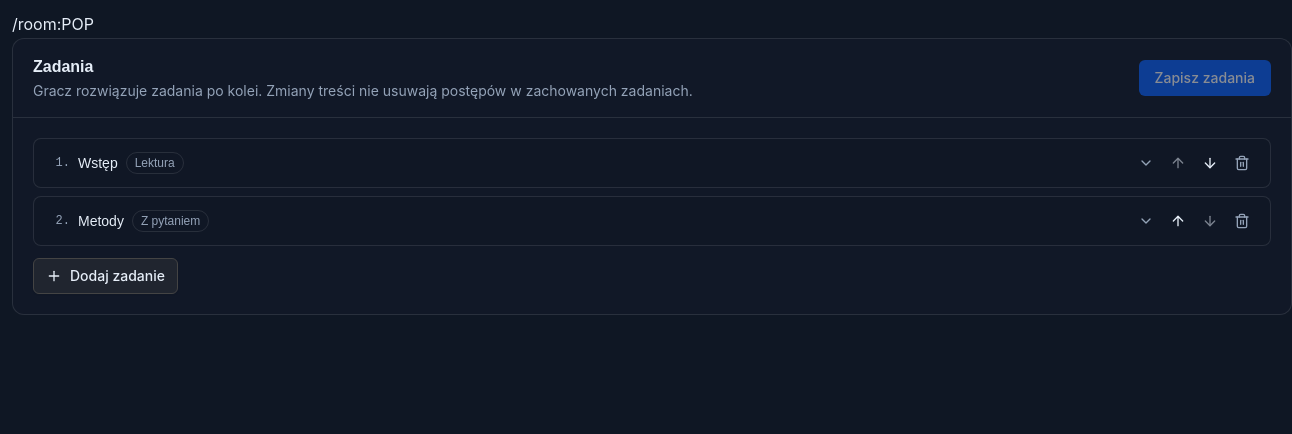
Test case: tasks editor › shows validation errors returned by the server
Expected: the button "Metody Z pytaniem" is shown, [78,206,1154,236]
Click the button named "Przesuń zadanie 2 w górę" at (1178, 221), box [1162,205,1194,237]
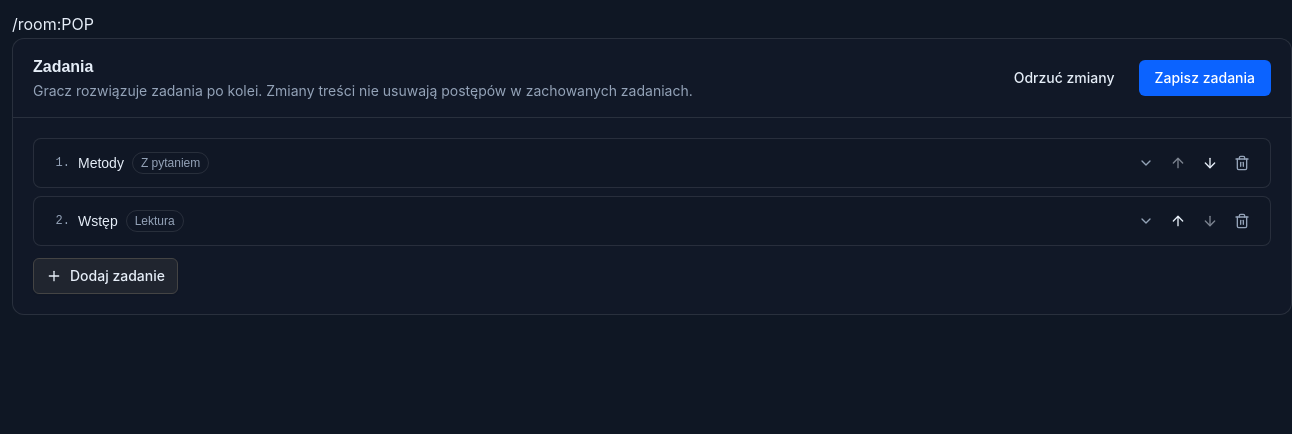
Click the button "Zapisz zadania" at (1205, 78), box [1138,60,1271,96]
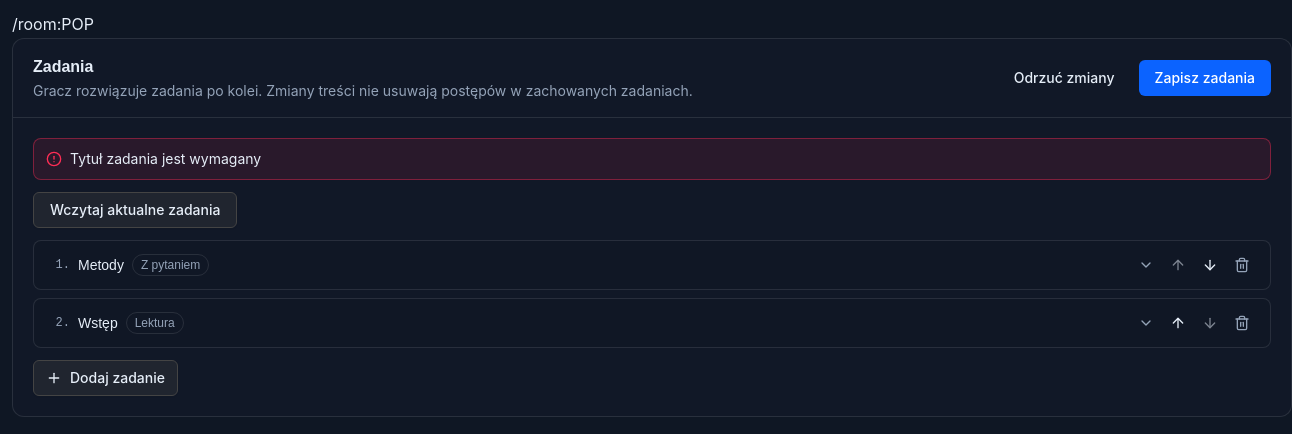
Result: the text "Tytuł zadania jest wymagany" is shown at [70,149,261,169]
